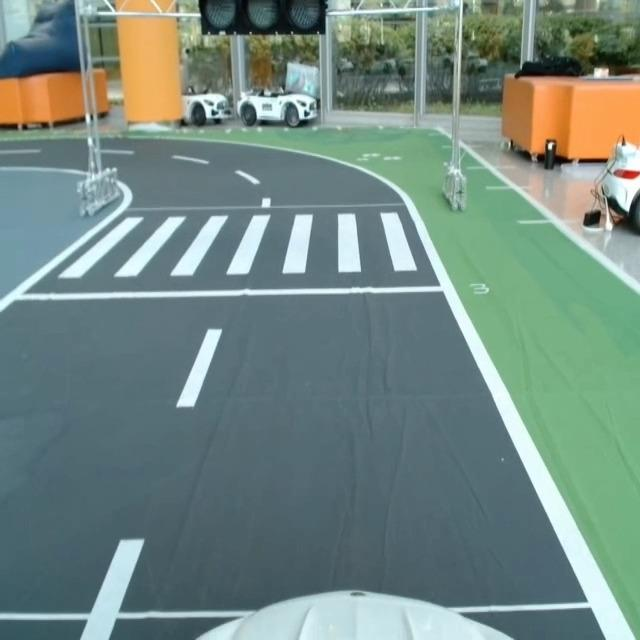traffic-light: (192, 0, 330, 36)
